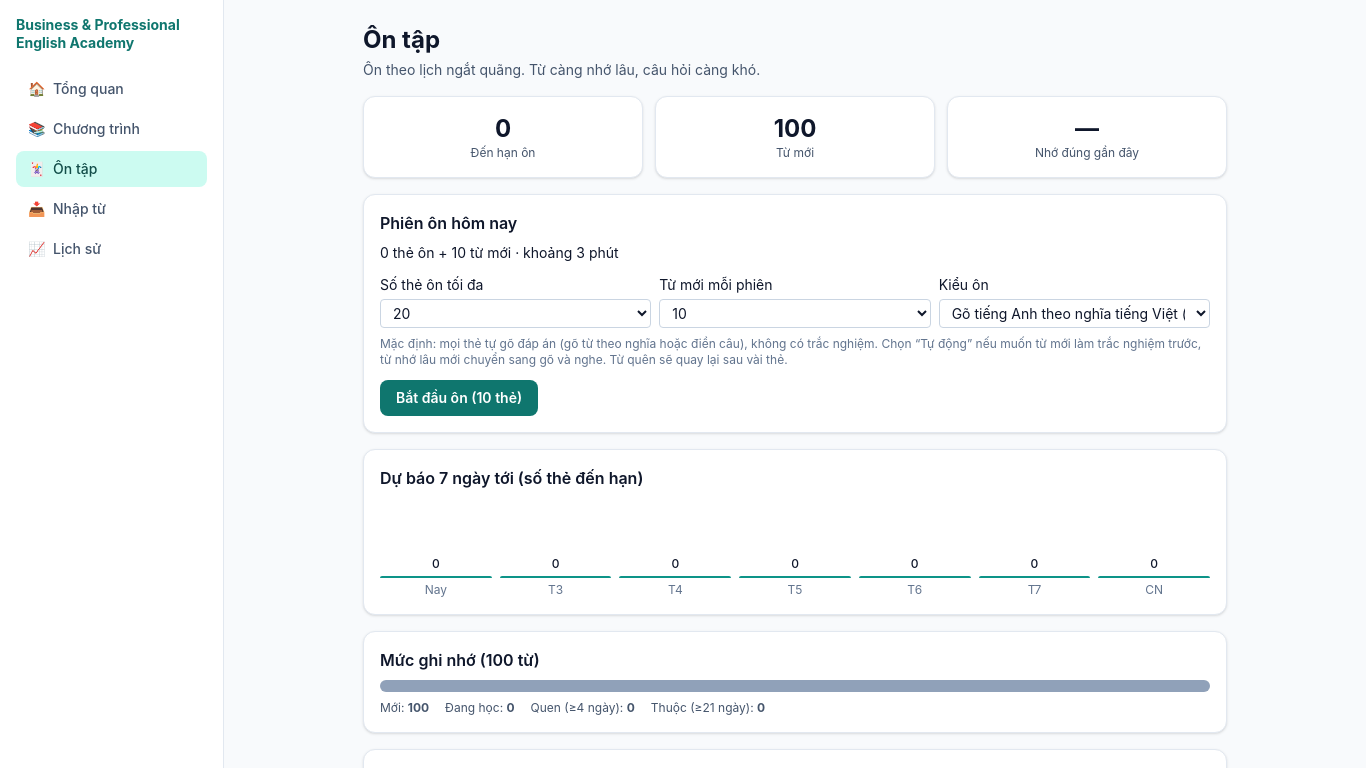
it: Ôn tập: phiên ôn tính lịch › kiểu "Gõ từ": gõ đúng nhanh → mức Dễ (3 ngày); gõ sai chính tả 1 ký tự → báo gần đúng
Select "1" in the dropdown labelled "Từ mới mỗi phiên" at (795, 314), box [659,299,931,328]
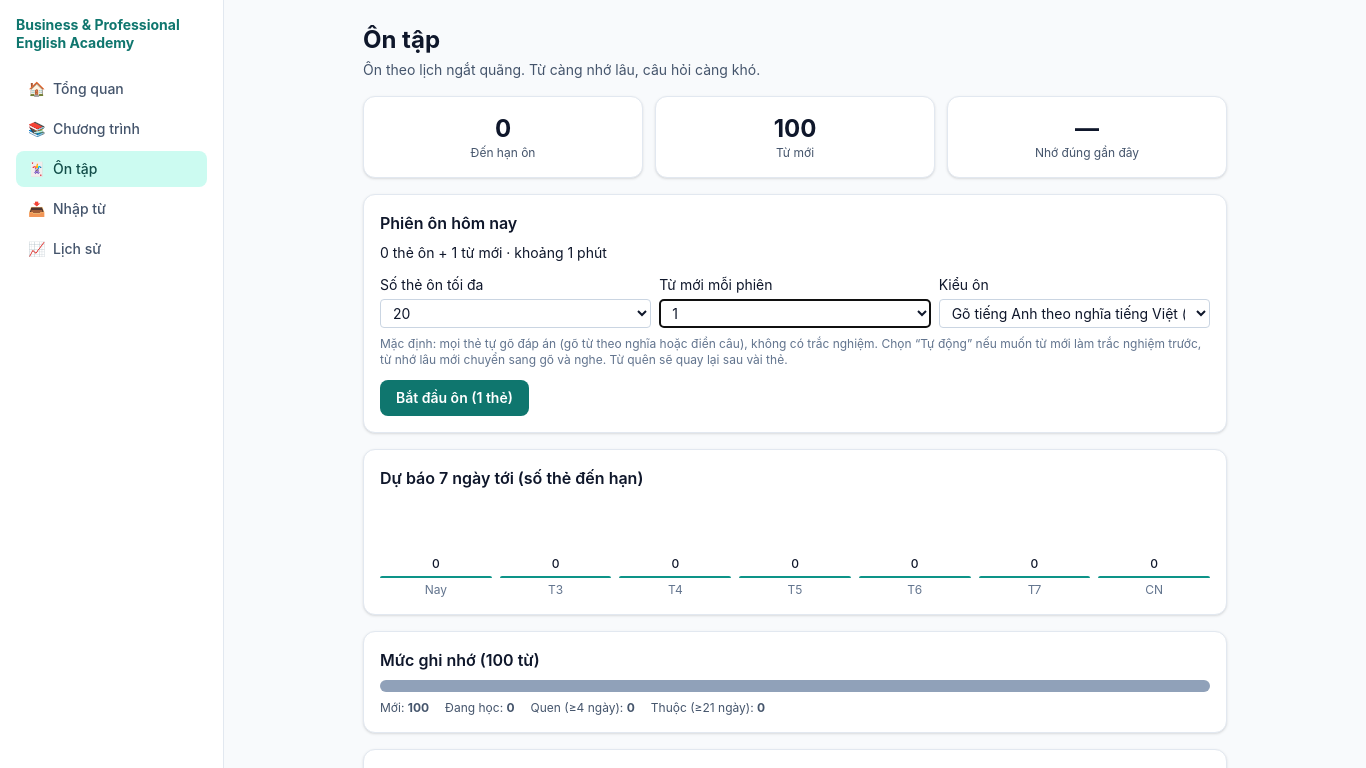
Select "Gõ từ" in the dropdown labelled "Kiểu ôn" at (1074, 314), box [939,299,1210,328]
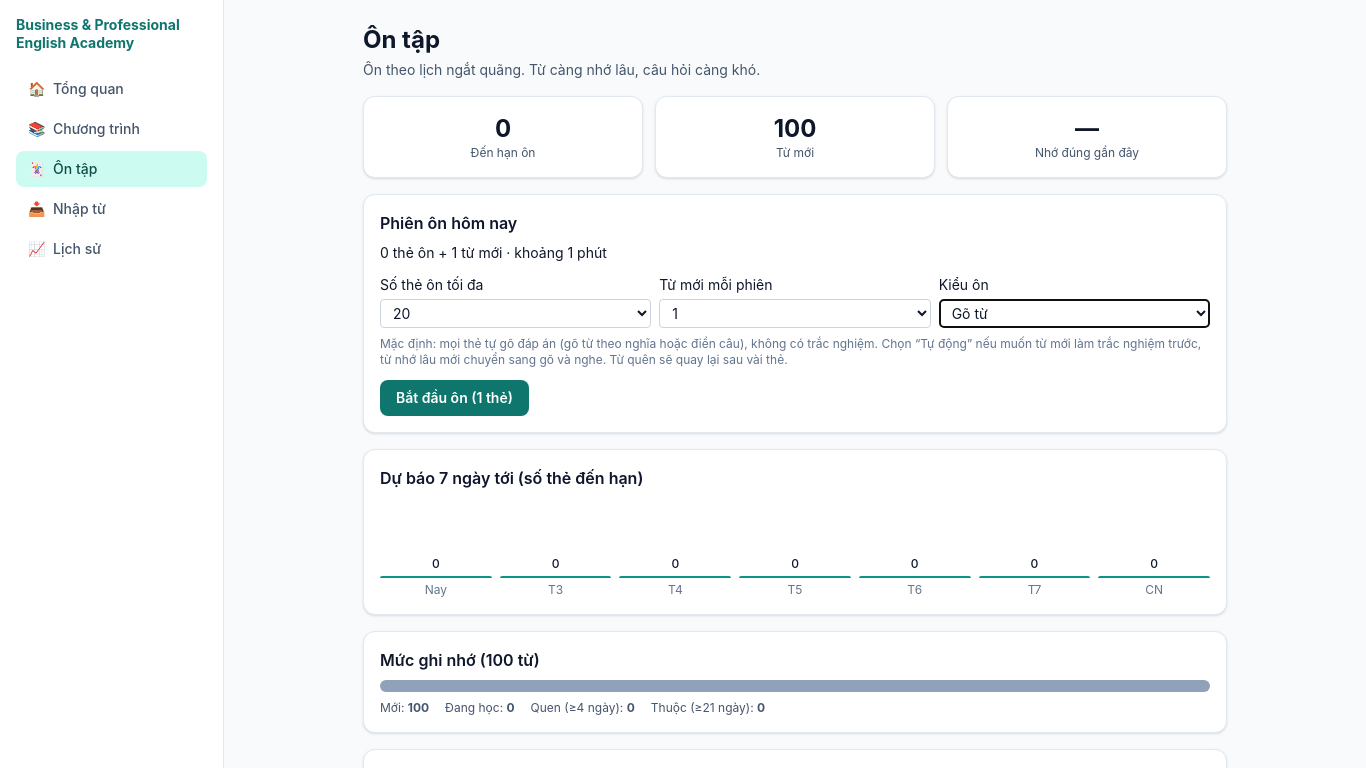
Click the button "Bắt đầu ôn (1 thẻ)" at (454, 398), box [380,380,529,416]
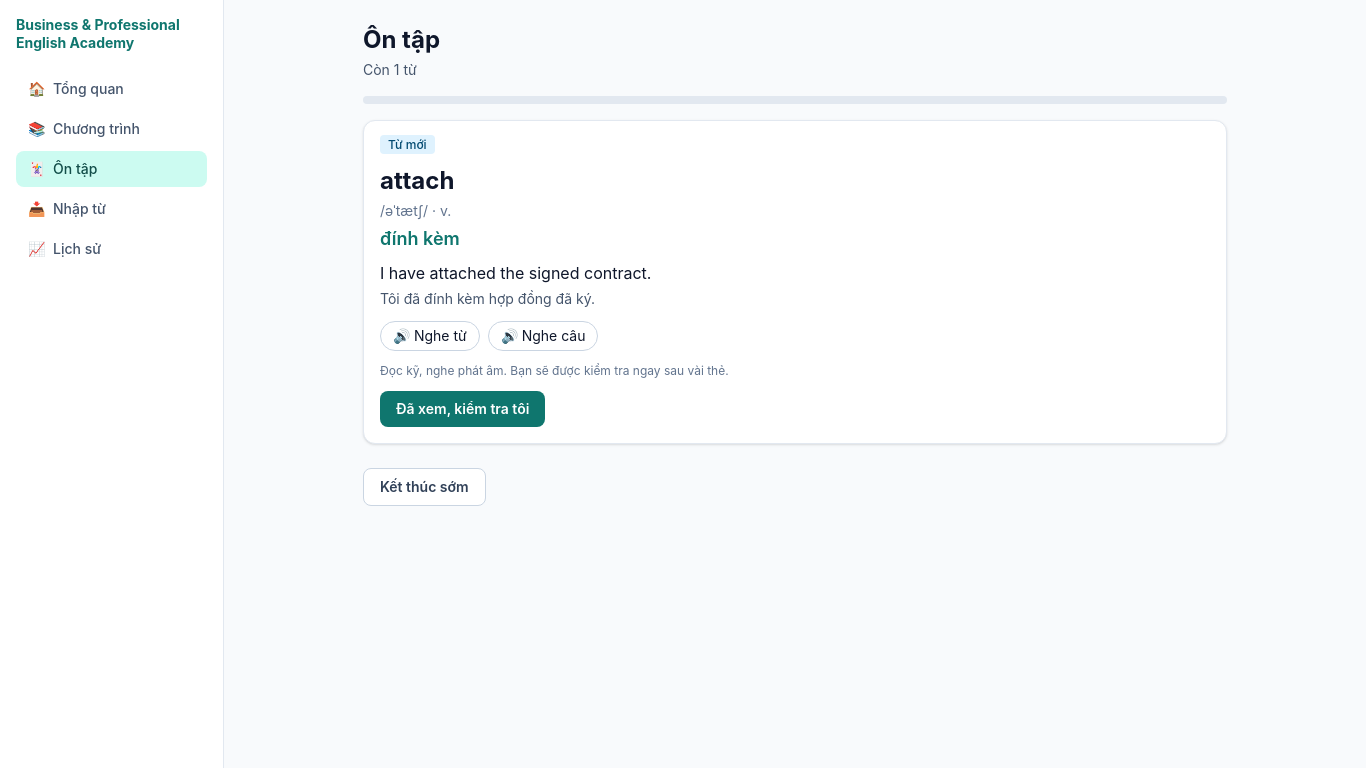
Click the button "Đã xem, kiểm tra tôi" at (463, 409), box [380,391,545,427]
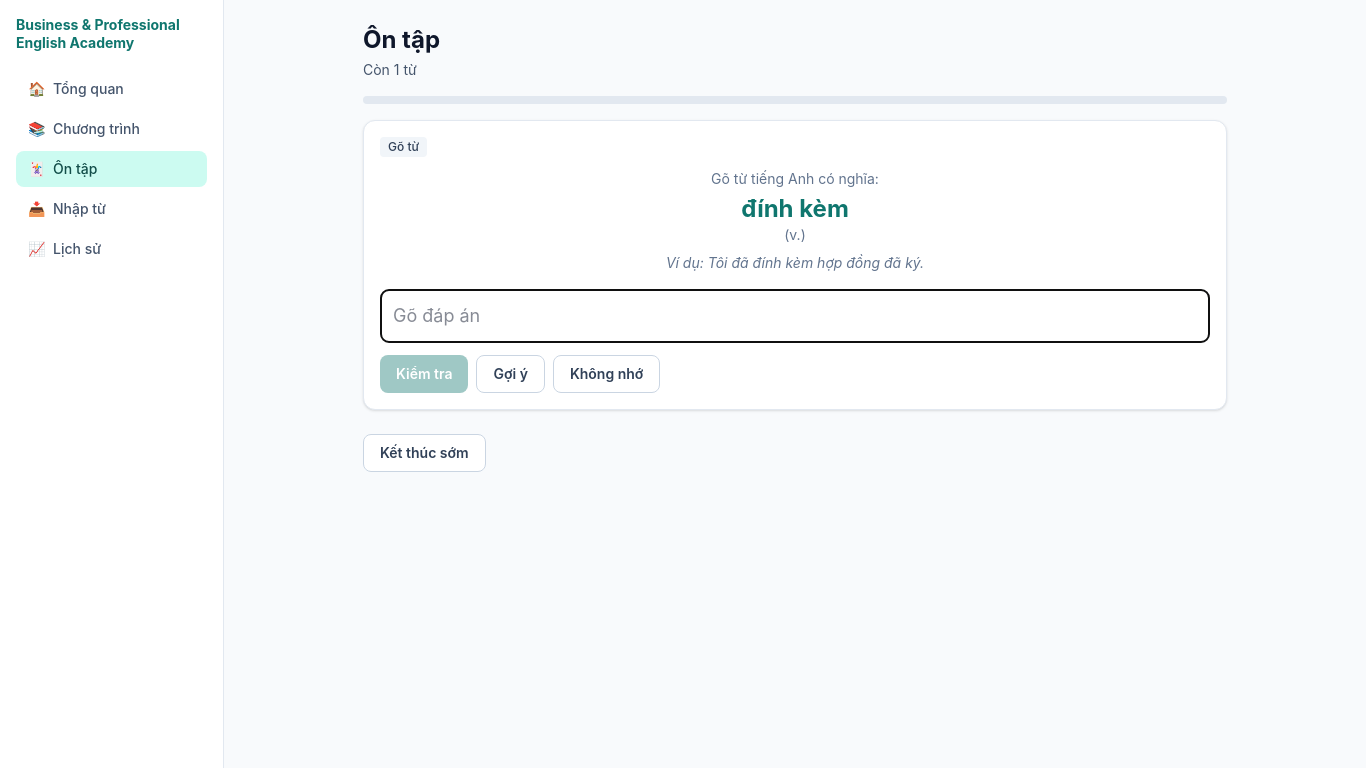
Expected: the text "Gõ từ" is shown, [380,137,427,157]
Type "attach" into the field named "Câu trả lời" at (795, 316), box [380,289,1210,343]
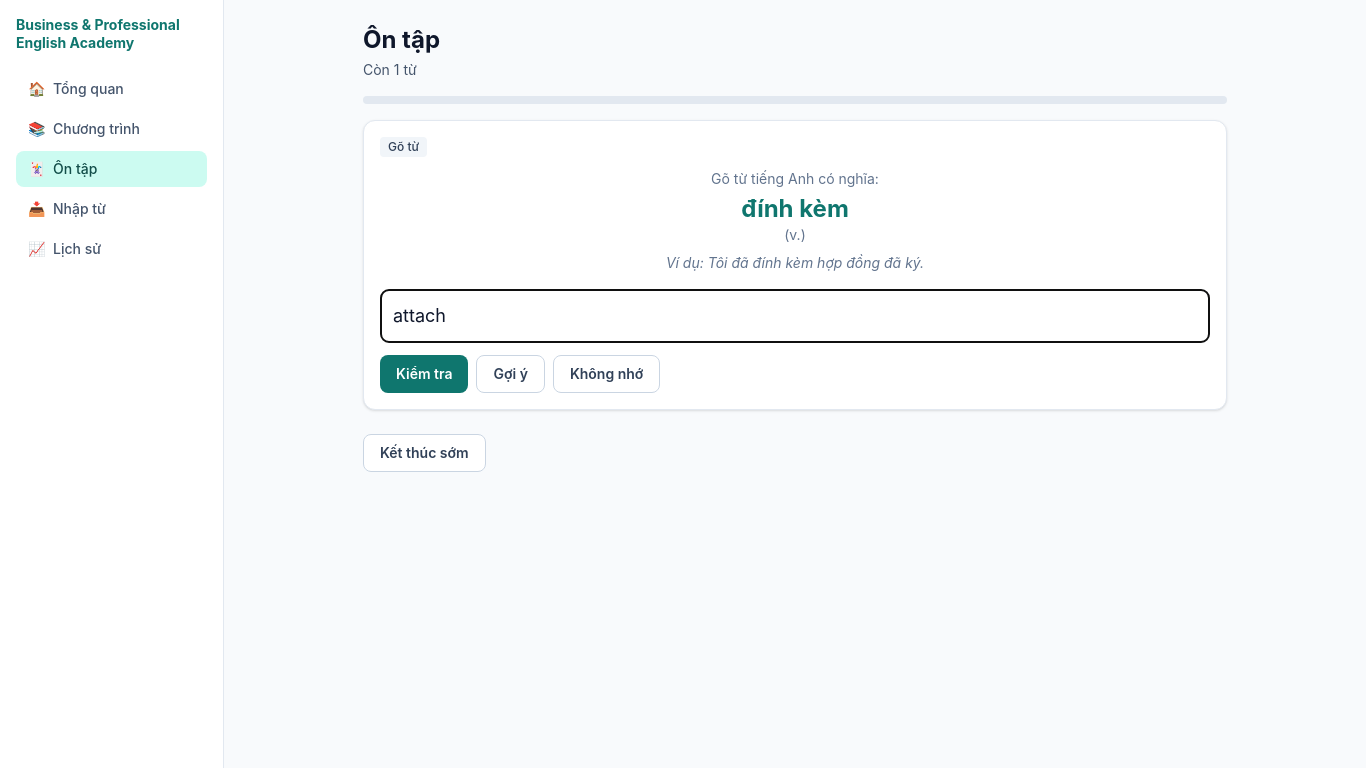
Click the button "Kiểm tra" at (424, 374), box [380,355,468,393]
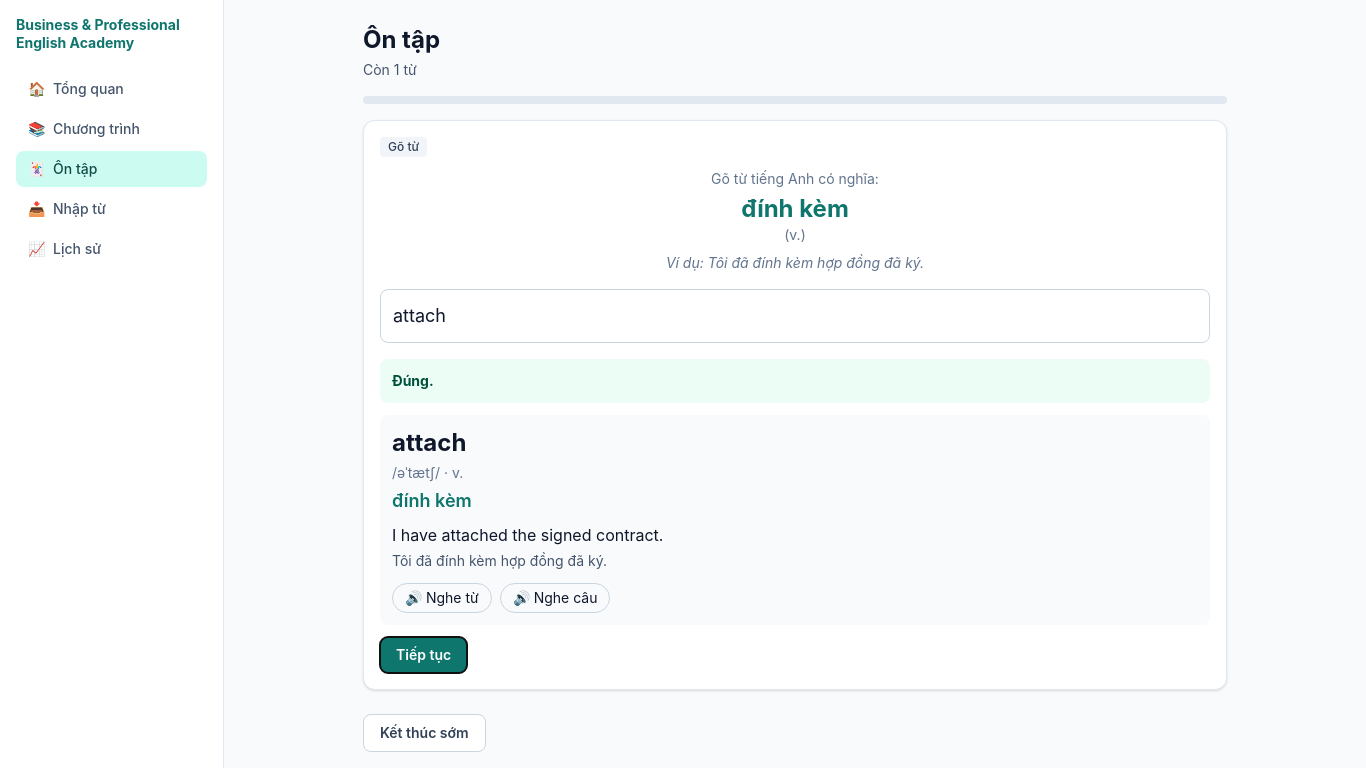
Expected: the text "Đúng." is shown, [392,372,434,389]
